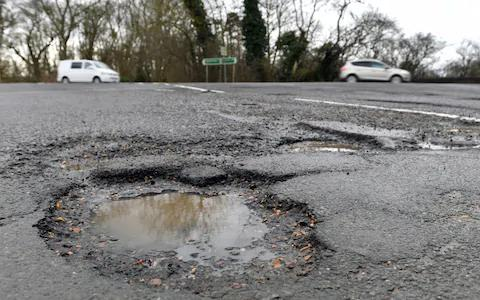Pothole: (20, 152, 339, 297), (263, 128, 390, 165)
